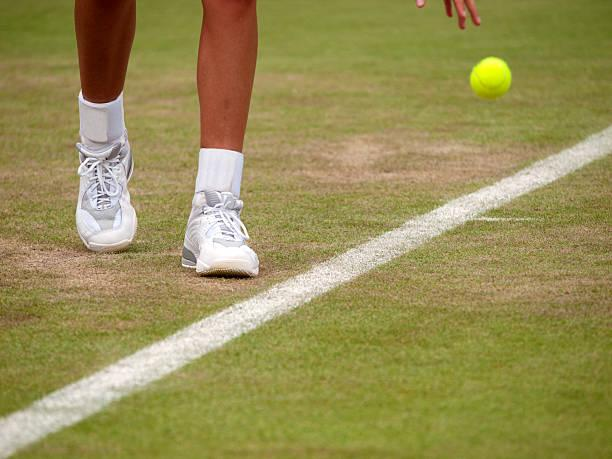ball_tennis: (470, 58, 512, 102)
